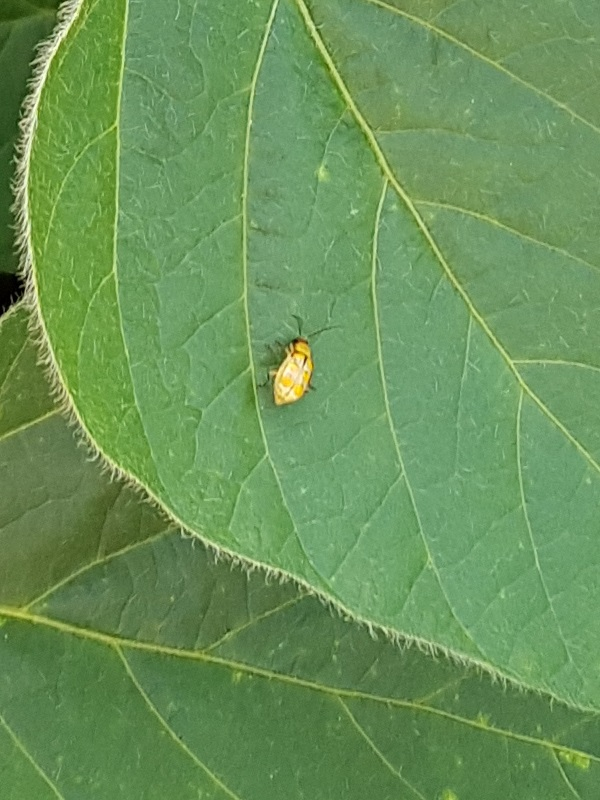Diabrotica_speciosa: (242, 307, 352, 418)
